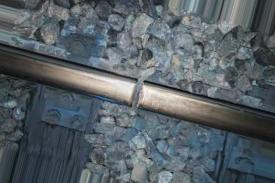tracks_fault: (112, 70, 157, 124)
